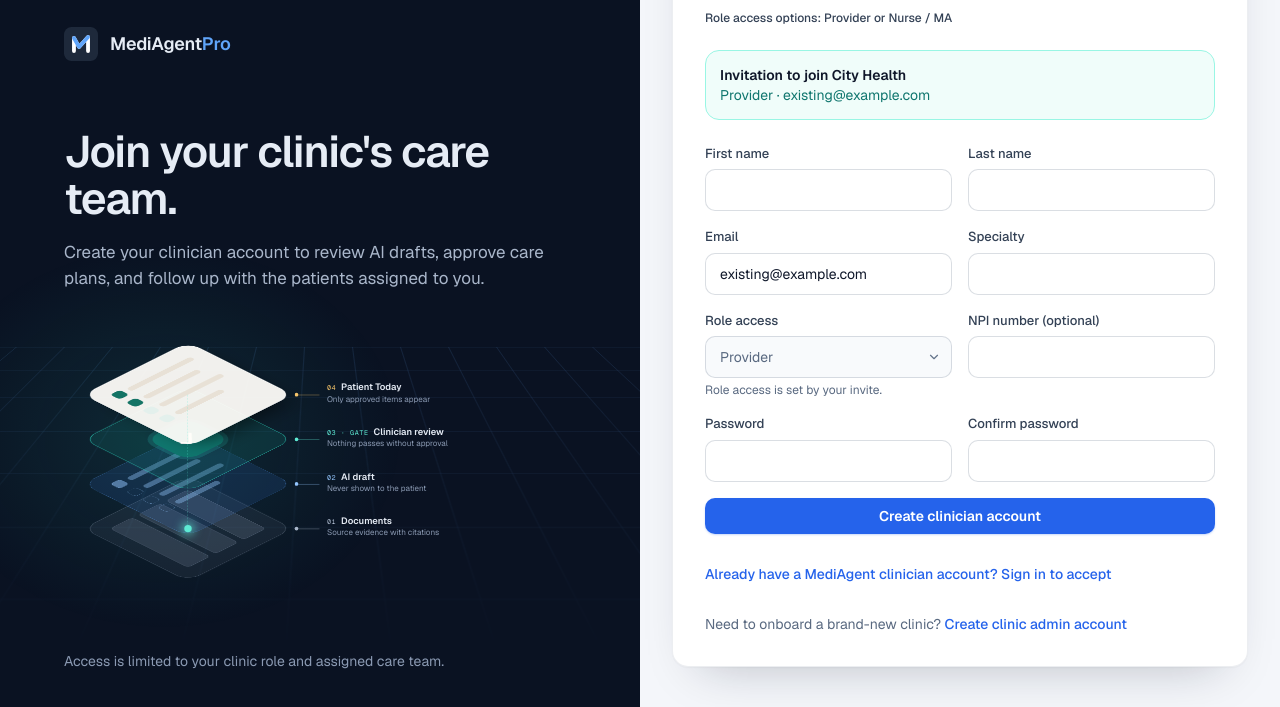
Test: Clinician signup page › reveals sign-in-to-accept only when chosen and offers a way back
(page scrolled)
Click the button "Already have a MediAgent clinician account? Sign in to accept". click: click(908, 574)
box: 705,558 -> 1112,590
(page scrolled)
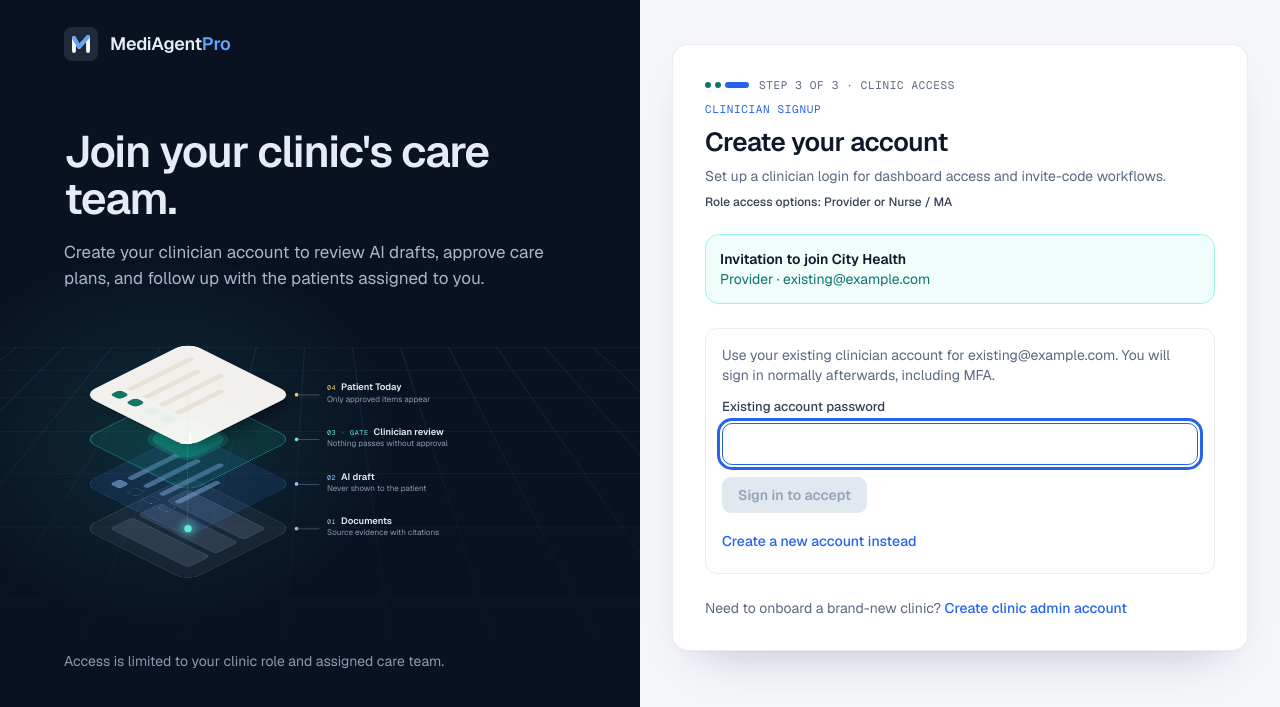
expect the form named "Sign in to accept" is shown: met, box 722,345 -> 1198,512
expect the button "Sign in to accept" is disabled: met, box 722,476 -> 867,512
expect the button "Create clinician account" is gone: met
Click the button "Create a new account instead". click: click(819, 540)
box: 722,524 -> 916,556
(page scrolled)
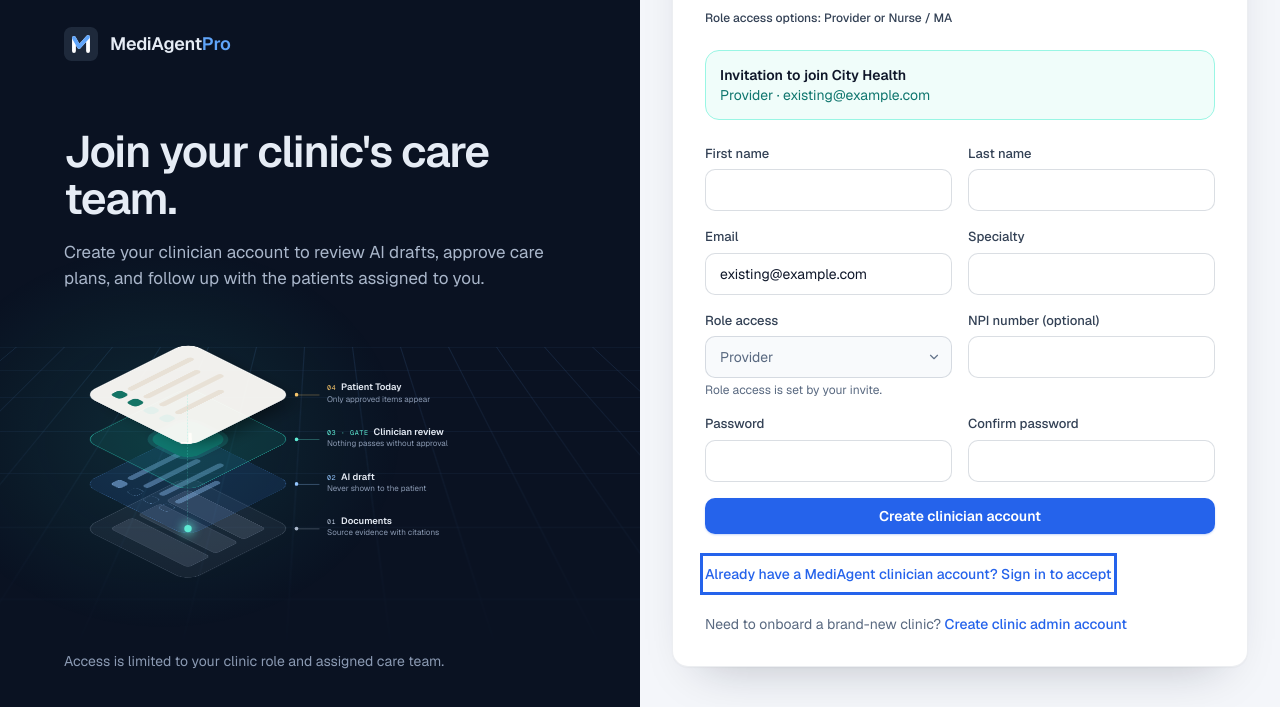
expect the button "Create clinician account" is shown: met, box 705,498 -> 1215,534
